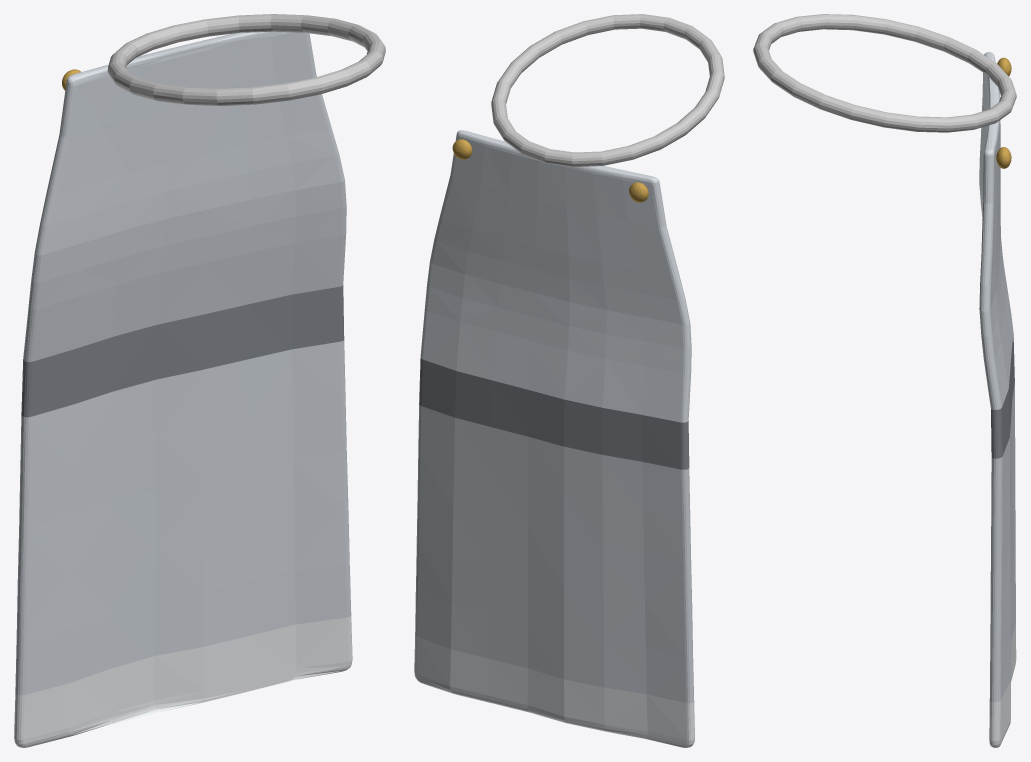
File: Apron.obj
The picture shows the model from 3 angles, left to right: view 1: azimuth 30°, elevation 25°; view 2: azimuth 150°, elevation 25°; view 3: azimuth 270°, elevation 25°; orthographic projection. The views are drawn at different scales.
Bounding box in the file's own units: 1.53 × 3.19 × 1.2.
